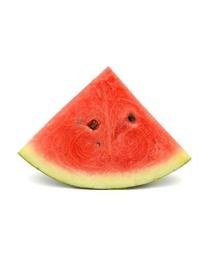watermelon: (19, 67, 193, 192)
